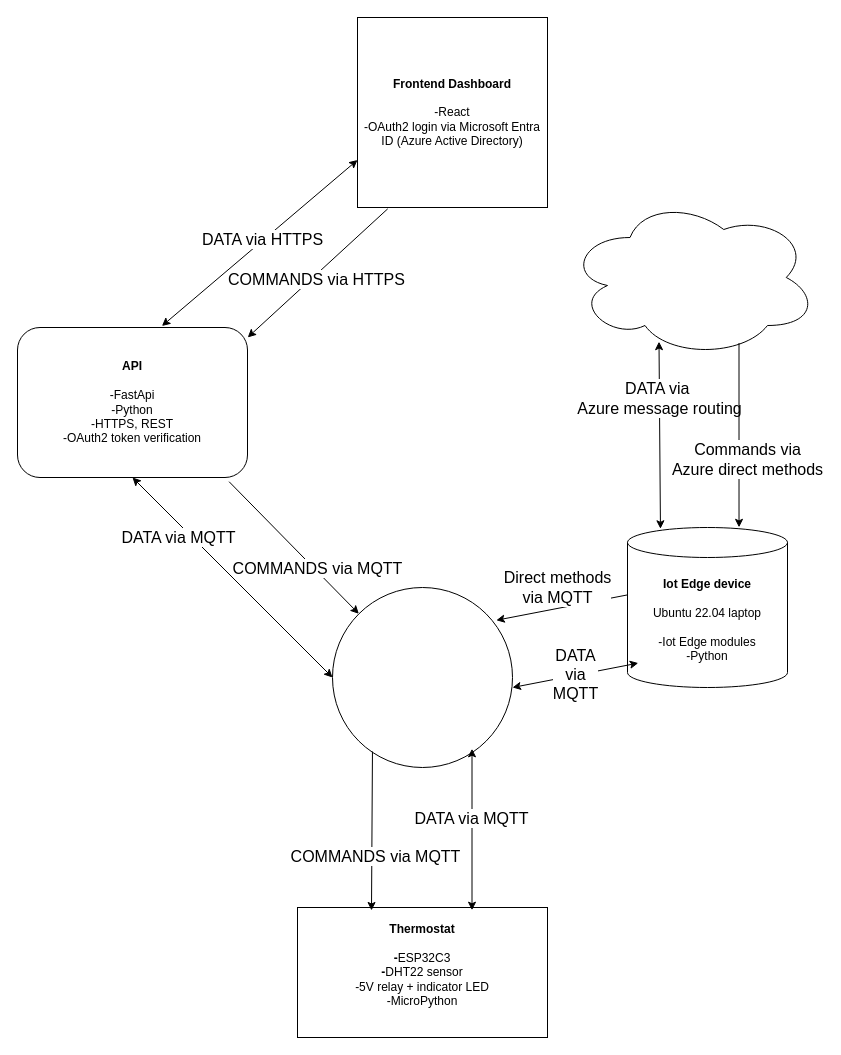
This 841x1055 diagram has some shape labels left out. The shapes that lost their labels are listed below. From the top down, each one's centre as x and y in pixels, then its label:
[692,277]: Azure Iot Hub
[422,677]: MQTT broker -Hetzner virtual machine -Ubuntu 22.04 + Mosquitto -TLS
